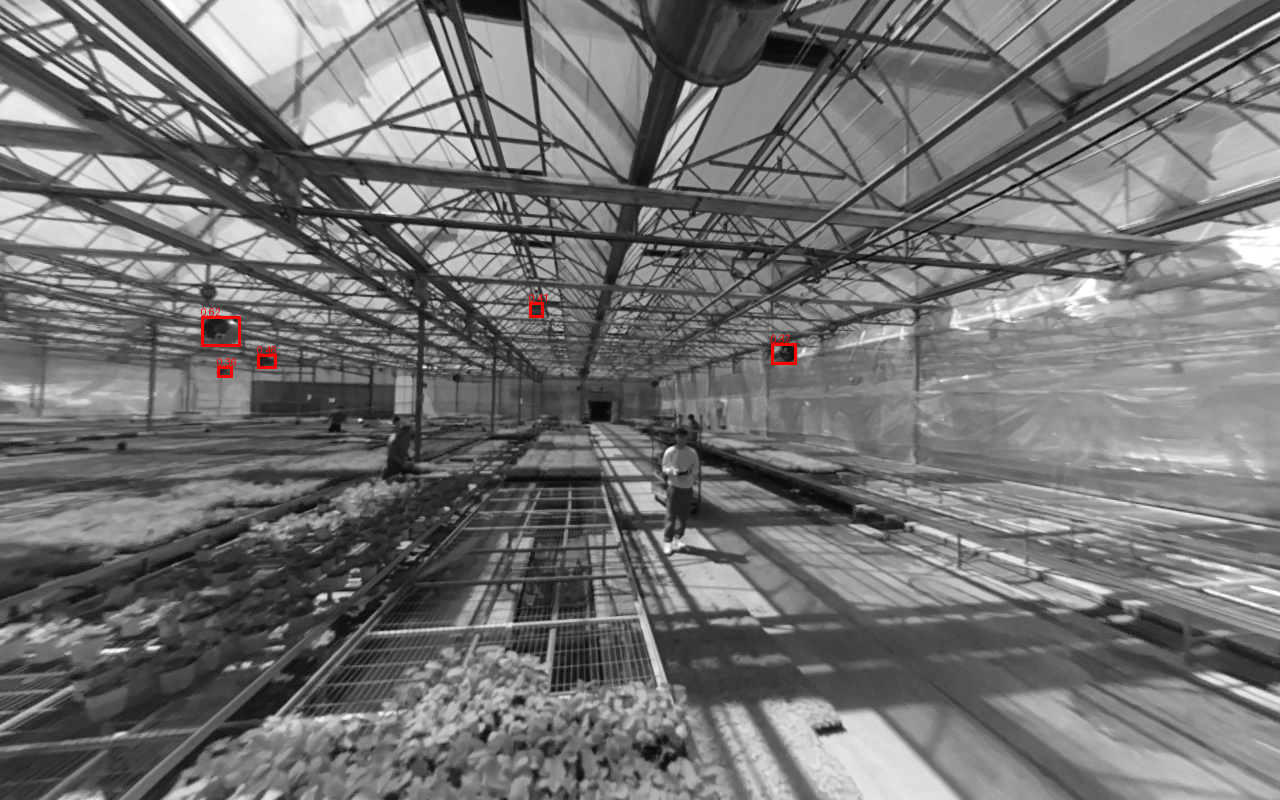fan: (195, 310, 239, 345), (772, 333, 806, 364)
